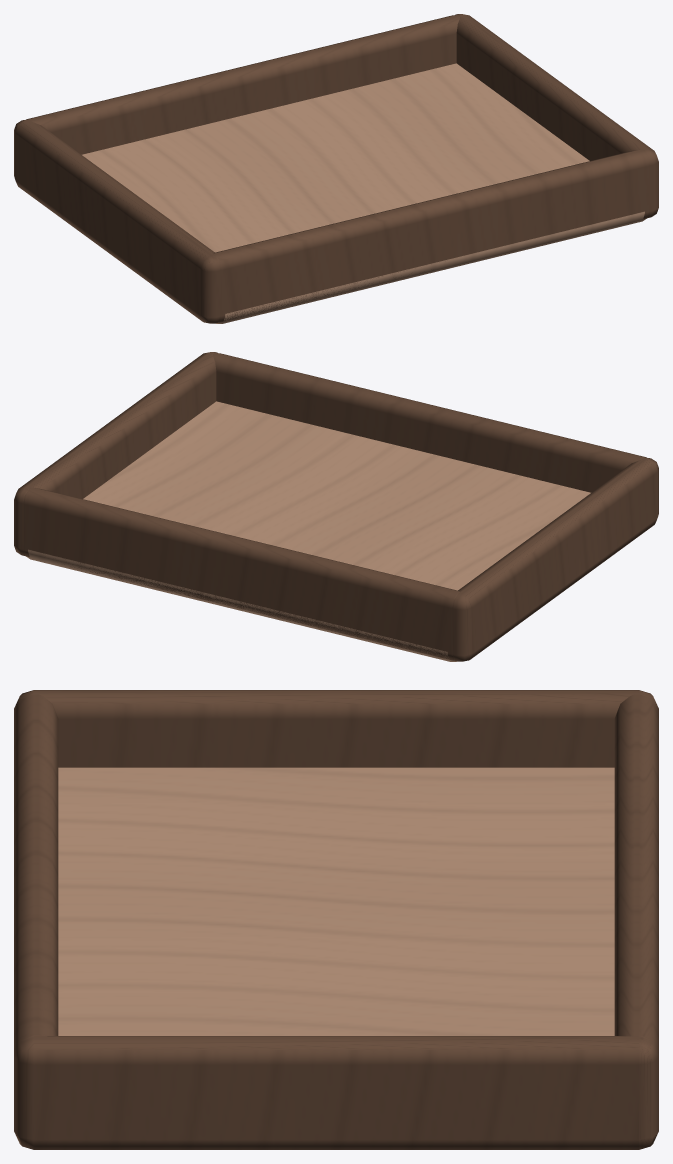
Rendered from product-off.tray.glb.
3 renders of one model, top to bottom at view 1: azimuth 30°, elevation 25°; view 2: azimuth 150°, elevation 25°; view 3: azimuth 270°, elevation 25°, orthographic. The views are drawn at different scales.
Visible parts, largest first — view 1: product-off.tray; view 2: product-off.tray; view 3: product-off.tray.
Part boxes in pixels (<box>): product-off.tray: <box>14,14,658,323</box>; product-off.tray: <box>14,352,658,661</box>; product-off.tray: <box>14,690,658,1149</box>.
Size of the model in its own units: 0.388 by 0.058 by 0.29.
2 materials, 2 textured.
